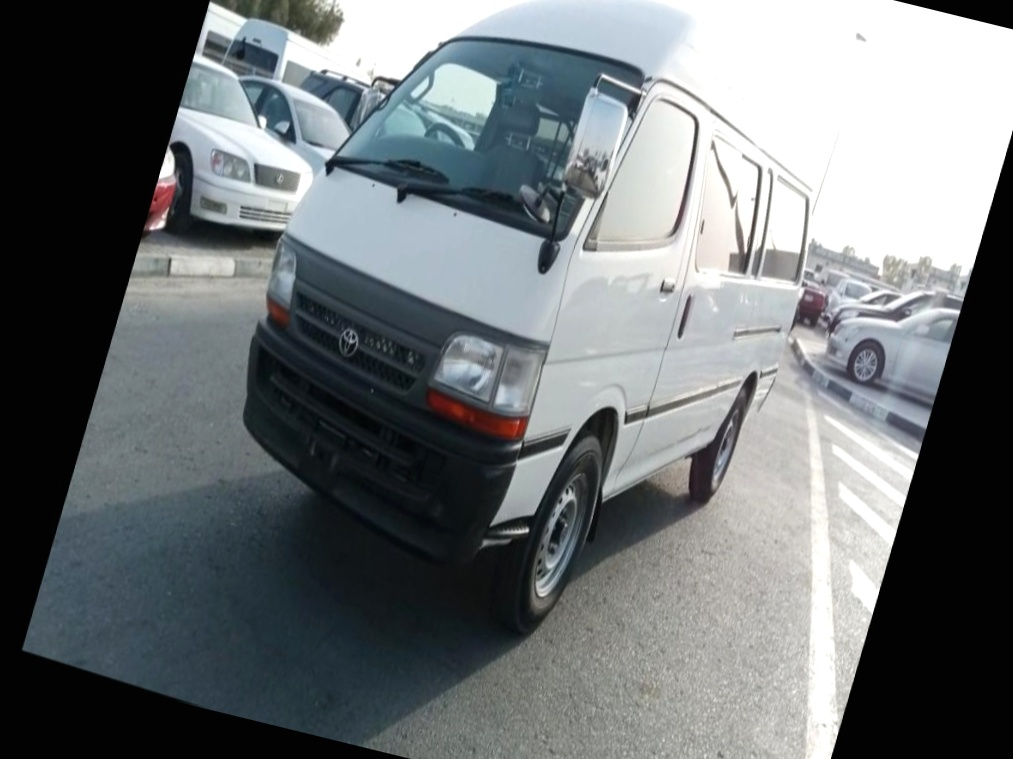van: (192, 0, 876, 676)
